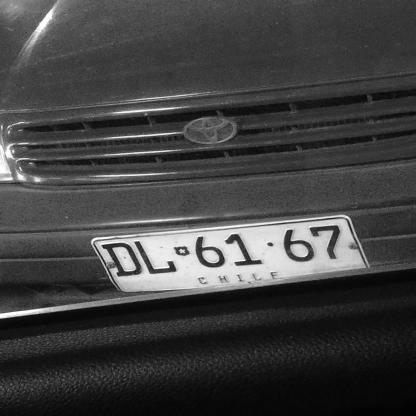Patente: (94, 213, 371, 298)
